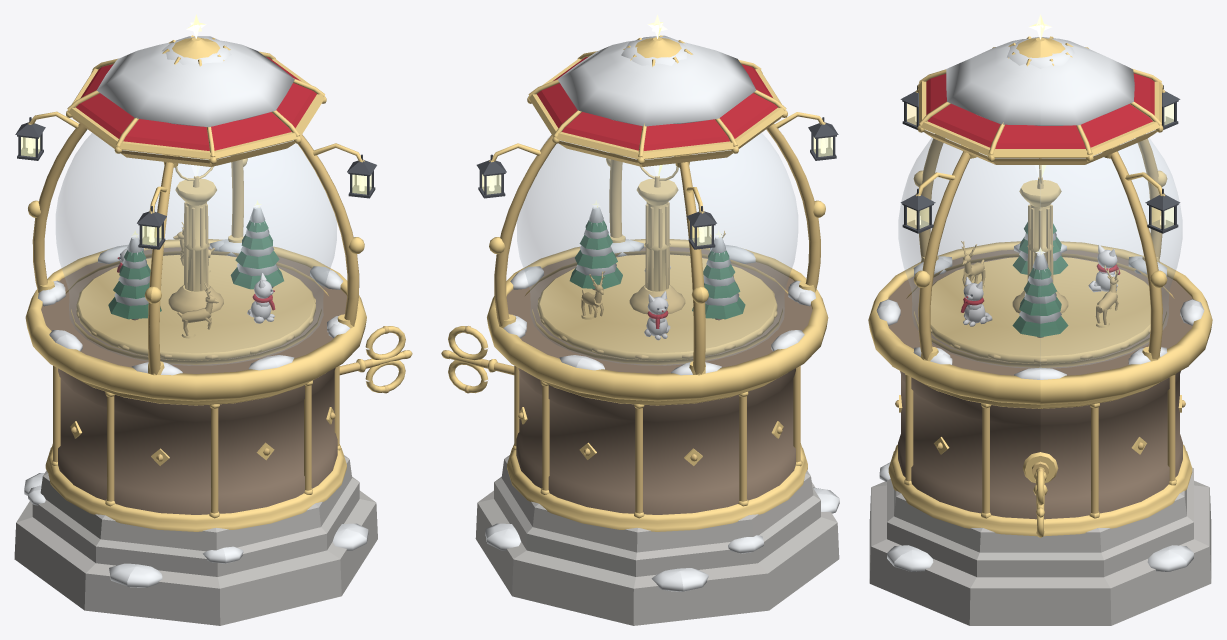
Rendered from wonder_snowglobe.glb.
3 renders of one model, left to right at view 1: azimuth 30°, elevation 25°; view 2: azimuth 150°, elevation 25°; view 3: azimuth 270°, elevation 25°, orthographic.
Visible parts, largest first — view 1: snowglobe_base, carousel_ring; view 2: snowglobe_base, carousel_ring; view 3: snowglobe_base, carousel_ring.
Boxes of the visible parts, x1,y1,x2,y2 form: snowglobe_base: (14, 14, 412, 625); carousel_ring: (76, 157, 315, 360); snowglobe_base: (441, 14, 839, 625); carousel_ring: (537, 157, 777, 360); snowglobe_base: (868, 14, 1212, 625); carousel_ring: (930, 158, 1150, 363).
Size of the model in its own units: 2.5 by 3.51 by 2.03.
